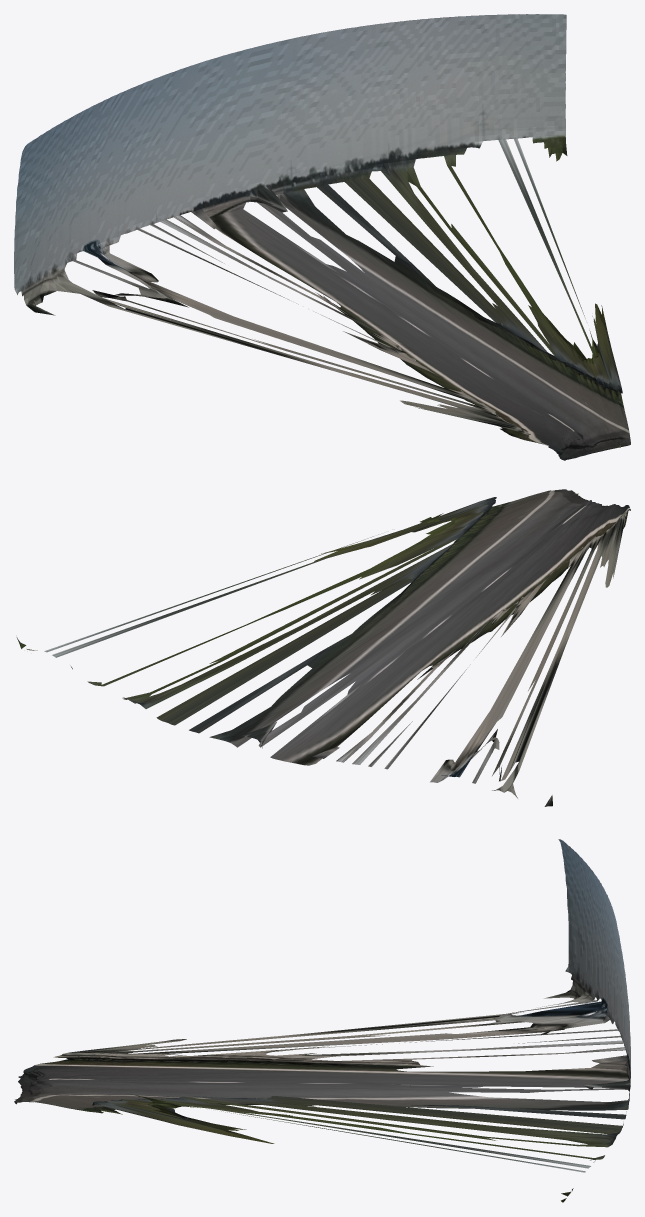
3 views of the same model, one above another, from view 1: azimuth 30°, elevation 25°; view 2: azimuth 150°, elevation 25°; view 3: azimuth 270°, elevation 25° (orthographic). The views are drawn at different scales.
Visible parts, largest first — view 1: defaultobject; view 2: defaultobject; view 3: defaultobject.
Part boxes in pixels (x1,y1,x2,y2): defaultobject: [14, 14, 630, 460]; defaultobject: [16, 489, 630, 806]; defaultobject: [14, 839, 630, 1202].
Size of the model in its own units: 41.16 by 12.95 by 44.55.
1 material, 1 textured.
